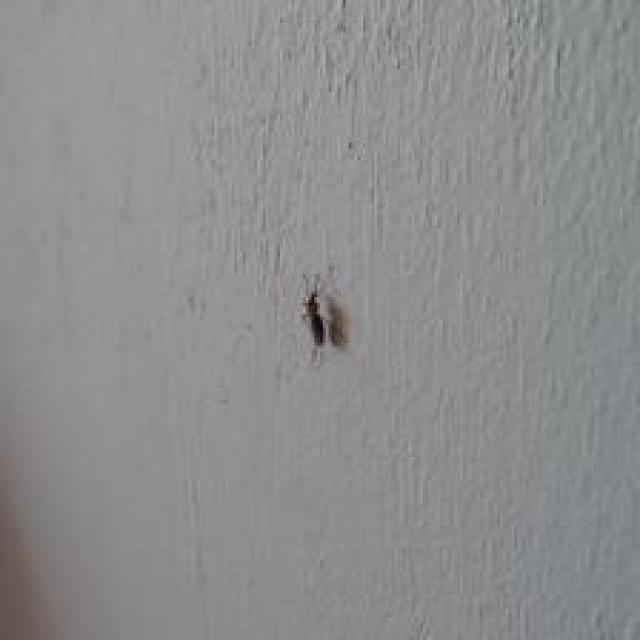Culex: (299, 271, 347, 366)
